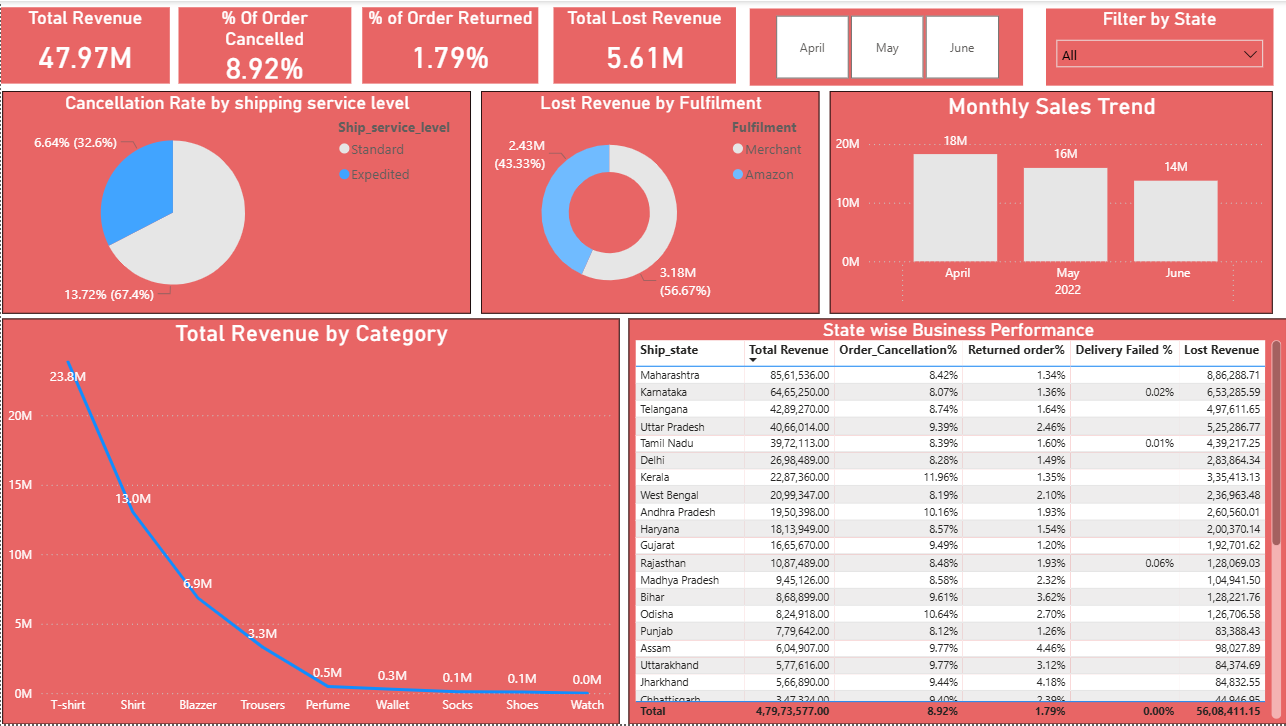

This screenshot's page, from the dashboard's own definition file:
{"tool":"powerbi","page":{"name":"Page 1","canvas":[1280,720],"ordinal":0},"visuals":[{"type":"card","title":"Total Revenue","fields":{"Values":["Cleaned_sales_data.Total Revenue"]},"box":[0,6.2,167.9,75.9],"z":0},{"type":"card","title":"Total Lost Revenue","fields":{"Values":["Cleaned_sales_data.Lost Revenue"]},"box":[549.8,6.2,181.6,75.9],"z":1},{"type":"card","title":"% Of Order Cancelled","fields":{"Values":["Cleaned_sales_data.Order_Cancellation%"]},"box":[176.6,6.2,171.7,75.9],"z":2},{"type":"lineChart","title":"Total Revenue by Category","fields":{"Y":["Cleaned_sales_data.Total Revenue"],"Category":["Cleaned_sales_data.Category"]},"box":[1.2,316,614.5,404.3],"z":3},{"type":"columnChart","title":"Monthly Sales Trend","fields":{"Y":["Cleaned_sales_data.Total Revenue"],"Category":["Cleaned_sales_data.Order_date.Variation.Date Hierarchy.Year","Cleaned_sales_data.Order_date.Variation.Date Hierarchy.Month"]},"box":[824.9,89.6,440.9,221.9],"z":4},{"type":"pieChart","title":"Cancellation Rate by shipping service level","fields":{"Category":["Cleaned_sales_data.Ship_service_level"],"Y":["Cleaned_sales_data.Order_Cancellation%"]},"box":[1.4,89.6,466.5,221.9],"z":5},{"type":"card","title":"% of Order Returned","fields":{"Values":["Cleaned_sales_data.Returned order%"]},"box":[359.5,6.2,175.4,75.9],"z":6},{"type":"tableEx","title":"State wise Business Performance","fields":{"Values":["Cleaned_sales_data.Ship_state","Cleaned_sales_data.Total Revenue","Cleaned_sales_data.Order_Cancellation%","Cleaned_sales_data.Returned order%","Cleaned_sales_data.Delivery Failed %","Cleaned_sales_data.Lost Revenue"]},"box":[624.5,316,655.6,404.3],"z":7},{"type":"slicer","fields":{"Values":["Cleaned_sales_data.Order_date.Variation.Date Hierarchy.Month"]},"box":[745.2,7.1,271.6,76.8],"z":8},{"type":"slicer","title":"Filter by State","fields":{"Values":["Cleaned_sales_data.Ship_state"]},"box":[1039.6,7.1,226.1,76.8],"z":9},{"type":"donutChart","fields":{"Category":["Cleaned_sales_data.Fulfilment"],"Y":["Cleaned_sales_data.Lost Revenue"]},"box":[477.9,89.6,337.1,221.9],"z":10}]}

Visuals, with their boxes in screenshot pixels (x1, y1, x2, y2), scaled from the page's 1280x720 canvas onto the 1286x726 screenshot:
"Total Revenue" card: detection(0, 6, 169, 83)
"Total Lost Revenue" card: detection(552, 6, 735, 83)
"% Of Order Cancelled" card: detection(177, 6, 350, 83)
"Total Revenue by Category" lineChart: detection(1, 319, 619, 725)
"Monthly Sales Trend" columnChart: detection(829, 90, 1272, 314)
"Cancellation Rate by shipping service level" pieChart: detection(1, 90, 470, 314)
"% of Order Returned" card: detection(361, 6, 537, 83)
"State wise Business Performance" tableEx: detection(627, 319, 1285, 725)
slicer - Cleaned_sales_data.Order_date.Variation.Date Hierarchy.Month: detection(749, 7, 1022, 85)
"Filter by State" slicer: detection(1044, 7, 1272, 85)
donutChart - Cleaned_sales_data.Fulfilment x Cleaned_sales_data.Lost Revenue: detection(480, 90, 819, 314)
